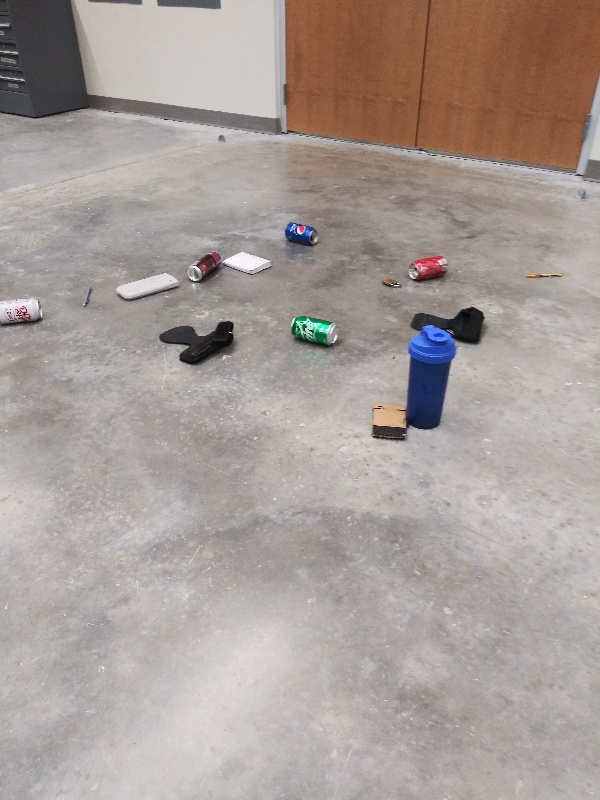can: (287, 311, 342, 350), (1, 292, 46, 329), (185, 246, 224, 286), (402, 252, 452, 283), (282, 217, 325, 251)
